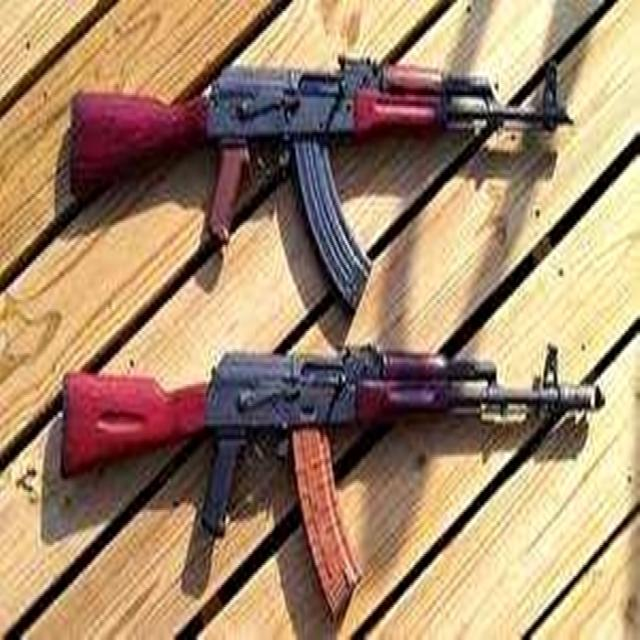ak: (53, 353, 615, 614)
